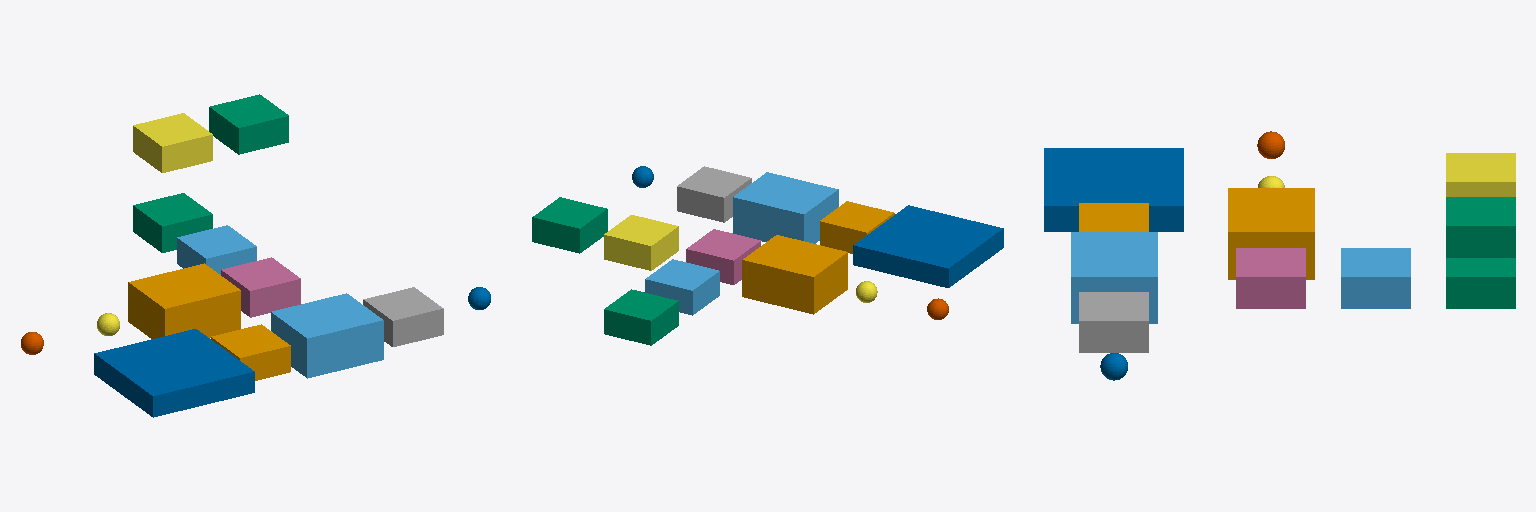
URDF robot description (apparatus_for_testing_a_sample_by_simultaneously_loading_with_lo):
<?xml version="1.0" ?>
<robot name="apparatus_for_testing_a_sample_by_simultaneously_loading_with_longitudinal_forces_and_torque">
  <link name="first_housing_means">
    <visual>
      <geometry>
        <box size="0.06 0.05 0.03"/>
      </geometry>
    </visual>
  </link>
  <link name="first_piston_rod">
    <visual>
      <geometry>
        <box size="0.04 0.04 0.02"/>
      </geometry>
    </visual>
  </link>
  <link name="fork_ends">
    <visual>
      <geometry>
        <box size="0.04 0.04 0.02"/>
      </geometry>
    </visual>
  </link>
  <link name="fork_means">
    <visual>
      <geometry>
        <box size="0.04 0.04 0.02"/>
      </geometry>
    </visual>
  </link>
  <link name="frame_means">
    <visual>
      <geometry>
        <box size="0.08 0.08 0.016"/>
      </geometry>
    </visual>
  </link>
  <link name="load_means">
    <visual>
      <geometry>
        <sphere radius="0.008"/>
      </geometry>
    </visual>
  </link>
  <link name="piston_means">
    <visual>
      <geometry>
        <box size="0.04 0.04 0.02"/>
      </geometry>
    </visual>
  </link>
  <link name="rotary_piston_means">
    <visual>
      <geometry>
        <box size="0.04 0.04 0.02"/>
      </geometry>
    </visual>
  </link>
  <link name="sample">
    <visual>
      <geometry>
        <box size="0.04 0.04 0.02"/>
      </geometry>
    </visual>
  </link>
  <link name="second_housing_means">
    <visual>
      <geometry>
        <box size="0.06 0.05 0.03"/>
      </geometry>
    </visual>
  </link>
  <link name="second_piston_rod">
    <visual>
      <geometry>
        <box size="0.04 0.04 0.02"/>
      </geometry>
    </visual>
  </link>
  <link name="torque_means">
    <visual>
      <geometry>
        <sphere radius="0.008"/>
      </geometry>
    </visual>
  </link>
  <link name="torque_transmitting_means">
    <visual>
      <geometry>
        <sphere radius="0.008"/>
      </geometry>
    </visual>
  </link>
  <joint name="_attach_load_means_to_first_housing_means" type="fixed">
    <parent link="load_means"/>
    <child link="first_housing_means"/>
    <origin xyz="0.1200 0.0000 0.0000" rpy="0 0 0"/>
  </joint>
  <joint name="_attach_load_means_to_first_piston_rod" type="fixed">
    <parent link="load_means"/>
    <child link="first_piston_rod"/>
    <origin xyz="0.1800 0.0600 0.0000" rpy="0 0 0"/>
  </joint>
  <joint name="_attach_load_means_to_fork_ends" type="fixed">
    <parent link="load_means"/>
    <child link="fork_ends"/>
    <origin xyz="0.2400 0.1200 0.0600" rpy="0 0 0"/>
  </joint>
  <joint name="_attach_load_means_to_fork_means" type="fixed">
    <parent link="load_means"/>
    <child link="fork_means"/>
    <origin xyz="0.1800 0.1200 0.0600" rpy="0 0 0"/>
  </joint>
  <joint name="_attach_load_means_to_frame_means" type="fixed">
    <parent link="load_means"/>
    <child link="frame_means"/>
    <origin xyz="0.0600 -0.0900 0.0000" rpy="0 0 0"/>
  </joint>
  <joint name="_attach_load_means_to_piston_means" type="fixed">
    <parent link="load_means"/>
    <child link="piston_means"/>
    <origin xyz="0.1800 0.0000 0.0000" rpy="0 0 0"/>
  </joint>
  <joint name="_attach_load_means_to_rotary_piston_means" type="fixed">
    <parent link="load_means"/>
    <child link="rotary_piston_means"/>
    <origin xyz="0.2400 -0.0900 0.0000" rpy="0 0 0"/>
  </joint>
  <joint name="_attach_load_means_to_sample" type="fixed">
    <parent link="load_means"/>
    <child link="sample"/>
    <origin xyz="0.1200 -0.0900 0.0000" rpy="0 0 0"/>
  </joint>
  <joint name="_attach_load_means_to_second_housing_means" type="fixed">
    <parent link="load_means"/>
    <child link="second_housing_means"/>
    <origin xyz="0.1800 -0.0900 0.0000" rpy="0 0 0"/>
  </joint>
  <joint name="_attach_load_means_to_second_piston_rod" type="fixed">
    <parent link="load_means"/>
    <child link="second_piston_rod"/>
    <origin xyz="0.1800 0.1200 0.0000" rpy="0 0 0"/>
  </joint>
  <joint name="_attach_load_means_to_torque_means" type="fixed">
    <parent link="load_means"/>
    <child link="torque_means"/>
    <origin xyz="0.0600 0.0000 0.0000" rpy="0 0 0"/>
  </joint>
  <joint name="_attach_load_means_to_torque_transmitting_means" type="fixed">
    <parent link="load_means"/>
    <child link="torque_transmitting_means"/>
    <origin xyz="0.3000 -0.0900 0.0000" rpy="0 0 0"/>
  </joint>
</robot>

--- What the picture shows (computed from the rendered views, not written in the file) ---
Views: 3 orthographic renders of the robot side by side, from view 1: azimuth 30°, elevation 25°; view 2: azimuth 150°, elevation 25°; view 3: azimuth 270°, elevation 25°.
Model apparatus_for_testing_a_sample_by_simultaneously_loading_with_lo with 13 links and 12 joints (12 fixed), rooted at load_means, posed all joints at 0.
Visible links, largest first — view 1: frame_means, second_housing_means, first_housing_means, fork_means, fork_ends, rotary_piston_means, second_piston_rod, piston_means, first_piston_rod, sample; view 2: frame_means, first_housing_means, second_housing_means, fork_ends, second_piston_rod, fork_means, rotary_piston_means, first_piston_rod, piston_means, sample; view 3: frame_means, first_housing_means, second_housing_means, first_piston_rod, fork_ends, piston_means, rotary_piston_means, second_piston_rod, fork_means, sample, load_means, torque_transmitting_means.
Link boxes in pixels (bbox=[...]): frame_means: bbox=[94, 329, 254, 417]; second_housing_means: bbox=[271, 293, 383, 378]; first_housing_means: bbox=[128, 263, 240, 338]; fork_means: bbox=[133, 113, 212, 172]; fork_ends: bbox=[209, 94, 288, 154]; rotary_piston_means: bbox=[363, 287, 443, 346]; second_piston_rod: bbox=[133, 193, 212, 252]; piston_means: bbox=[221, 257, 300, 317]; first_piston_rod: bbox=[177, 225, 256, 274]; sample: bbox=[211, 324, 290, 380]; frame_means: bbox=[853, 205, 1003, 287]; first_housing_means: bbox=[742, 235, 847, 314]; second_housing_means: bbox=[733, 172, 838, 243]; fork_ends: bbox=[532, 197, 607, 253]; second_piston_rod: bbox=[604, 289, 678, 345]; fork_means: bbox=[604, 215, 678, 270]; rotary_piston_means: bbox=[677, 166, 751, 222]; first_piston_rod: bbox=[645, 259, 719, 315]; piston_means: bbox=[686, 229, 760, 284]; sample: bbox=[820, 201, 894, 253]; frame_means: bbox=[1044, 148, 1183, 231]; first_housing_means: bbox=[1228, 188, 1314, 279]; second_housing_means: bbox=[1071, 232, 1157, 323]; first_piston_rod: bbox=[1341, 248, 1410, 308]; fork_ends: bbox=[1446, 197, 1515, 257]; piston_means: bbox=[1236, 248, 1305, 308]; rotary_piston_means: bbox=[1079, 292, 1148, 352]; second_piston_rod: bbox=[1446, 258, 1515, 308]; fork_means: bbox=[1446, 153, 1515, 196]; sample: bbox=[1079, 203, 1148, 231]; load_means: bbox=[1257, 131, 1284, 158]; torque_transmitting_means: bbox=[1100, 353, 1127, 380].
Size in the robot's own frame: 0.316 by 0.27 by 0.085 metres.
Geometry: primitives only (box / cylinder / sphere), no mesh files.
